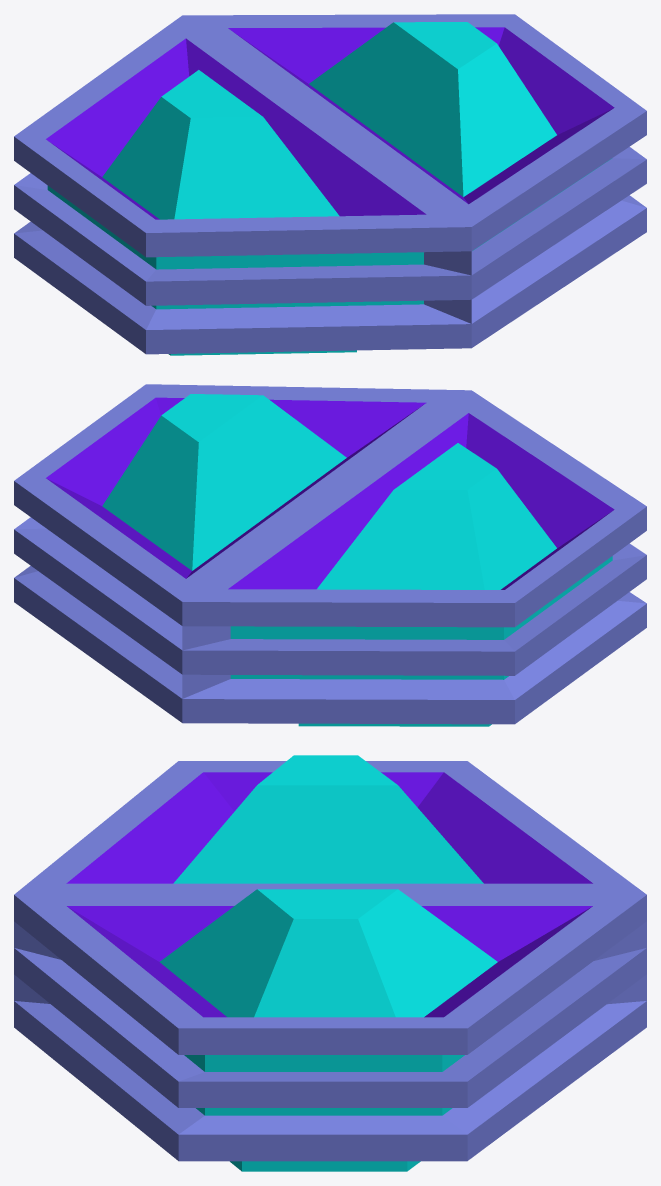
Rendered from ammo.fbx.
3 views of the same model, one above another, from view 1: azimuth 30°, elevation 25°; view 2: azimuth 150°, elevation 25°; view 3: azimuth 270°, elevation 25° (orthographic). The views are drawn at different scales.
Visible parts, largest first — view 1: Cube; view 2: Cube; view 3: Cube.
Boxes of the visible parts, x1,y1,x2,y2 form: Cube: (14, 14, 646, 355); Cube: (14, 384, 646, 726); Cube: (14, 755, 646, 1171).
Bounding box in the file's own units: 200 × 79.92 × 200.
